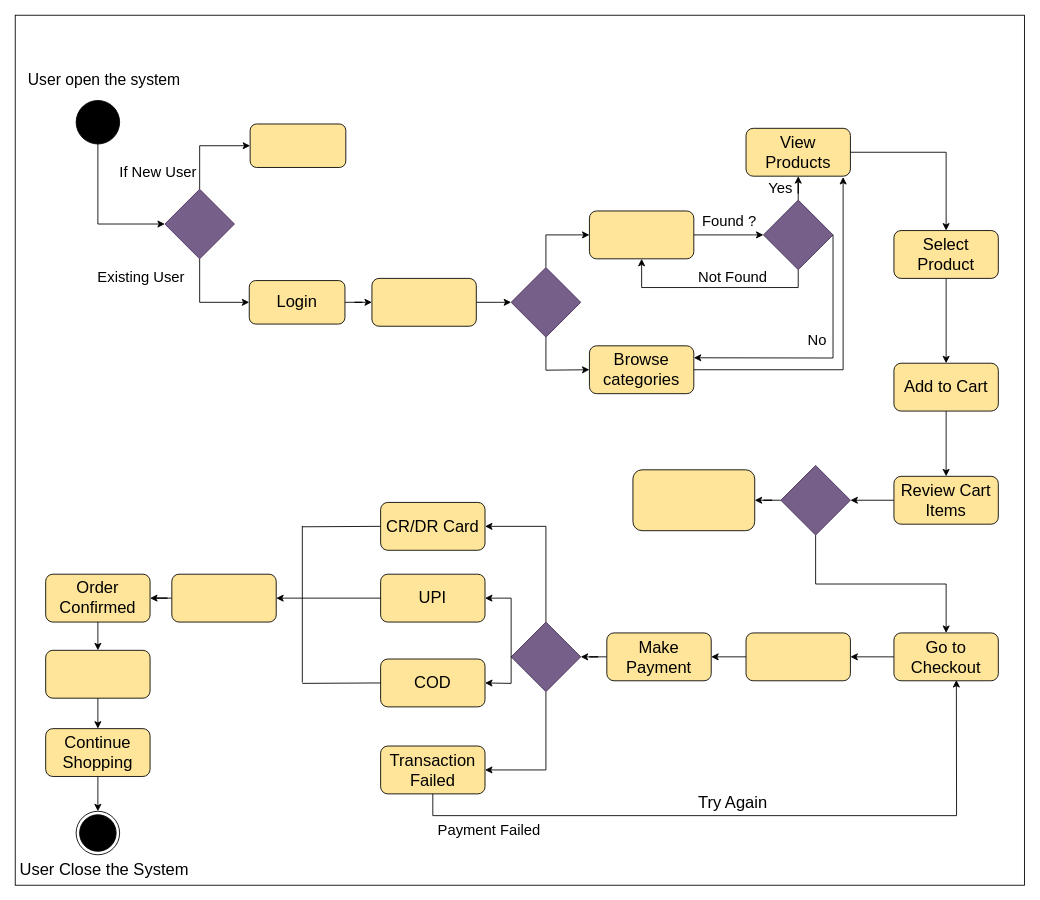
Some shapes in this 1040 by 900 pixel diagram are drawn without their labels. The centre of each missing label's shape, as x and y in pixels:
"Download Invoice" goes at (x=97, y=673).
"Input Shipping Info" goes at (x=797, y=656).
"Place Order" goes at (x=223, y=597).
"Register" goes at (x=297, y=145).
"Remove Product from cart" goes at (x=693, y=500).
"Search Product" goes at (x=641, y=234).
"Welcome to Home Page" goes at (x=423, y=302).
